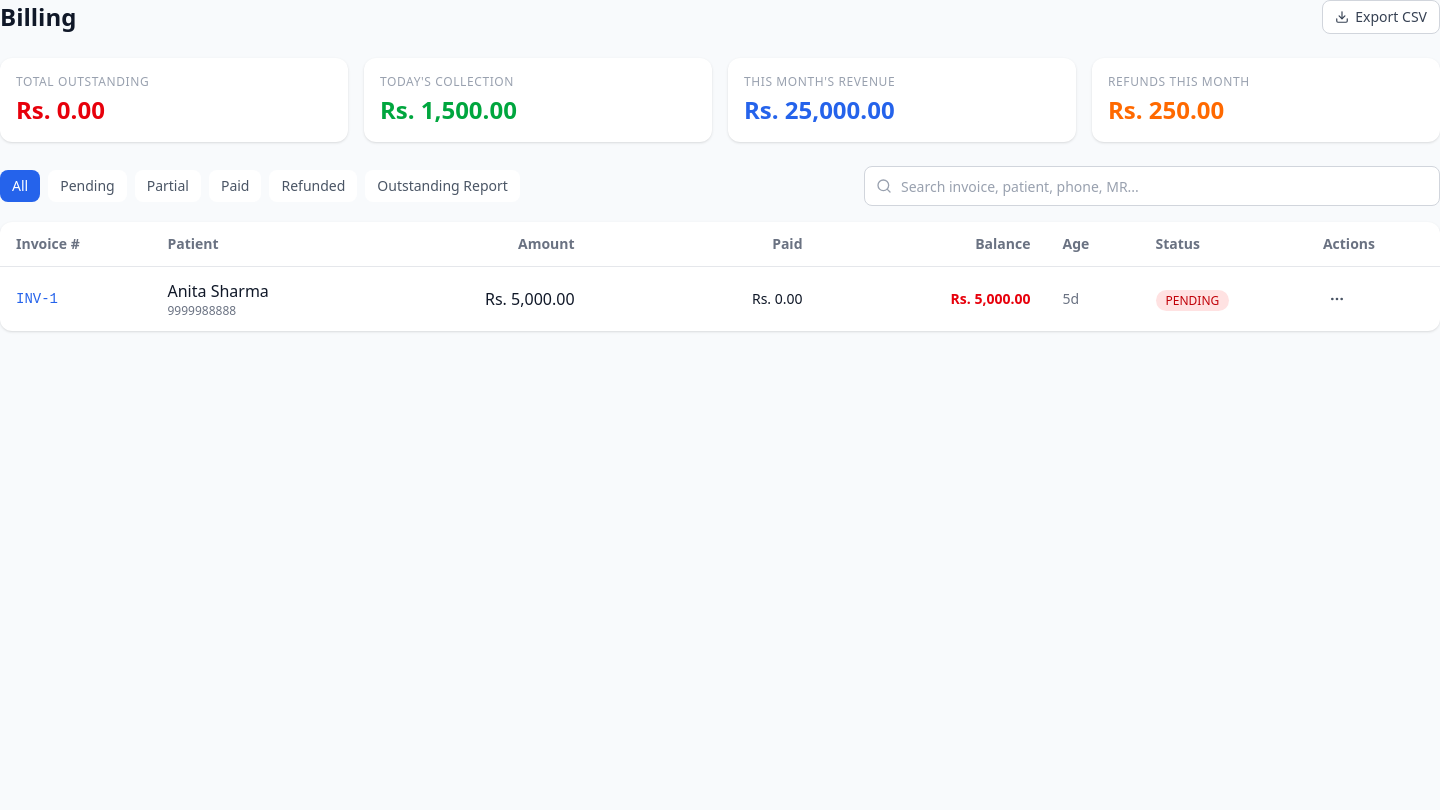
Scenario: BillingPage — global billing dashboard › Record Payment Cancel closes the modal without firing POST
Check: the link "INV-1" is shown, box [16,291,58,307]
Click the button named "Actions menu for invoice INV-1". click: (1337, 299)
box: [1323,285,1351,313]
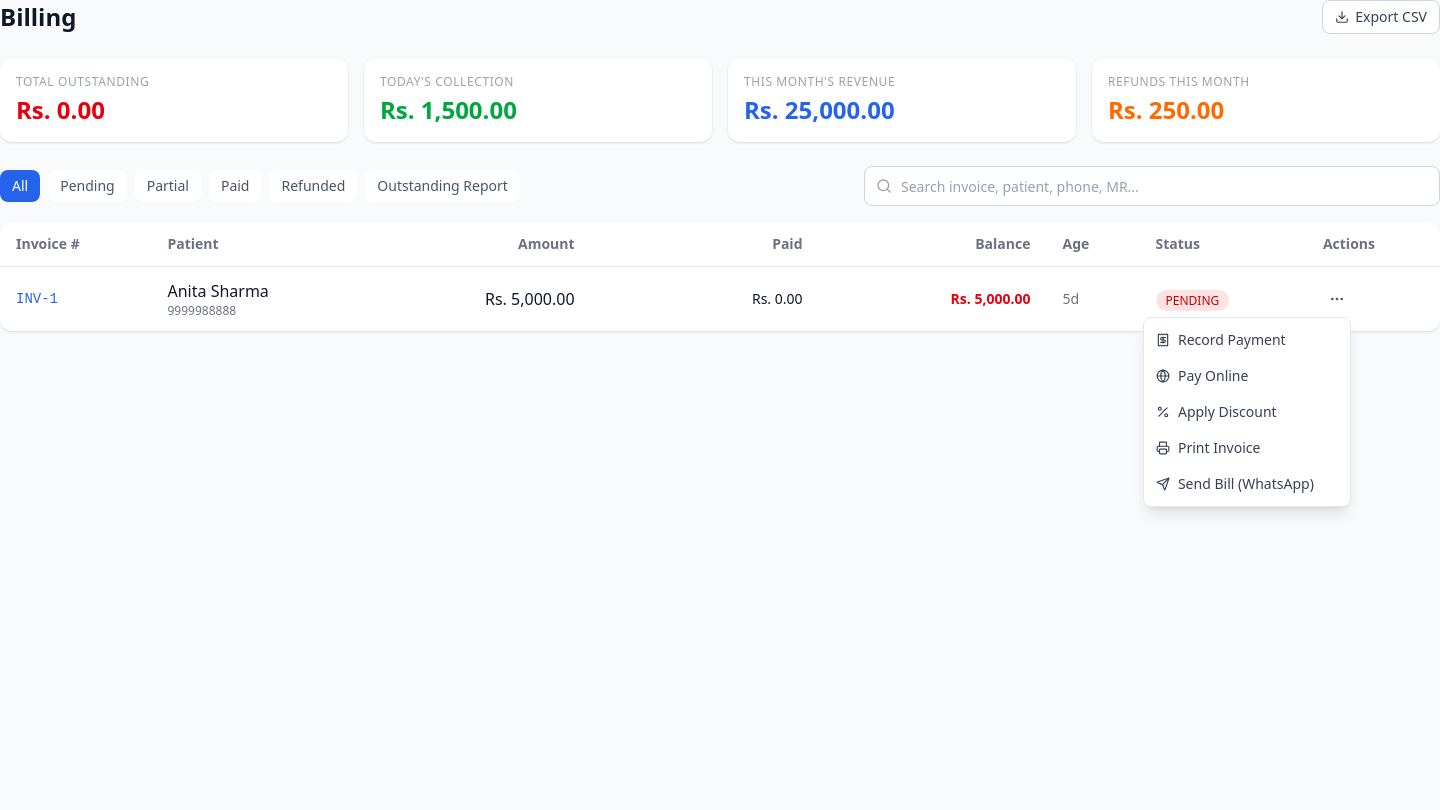
Click the button "Record Payment". click: (1247, 340)
box: [1144,322,1350,358]
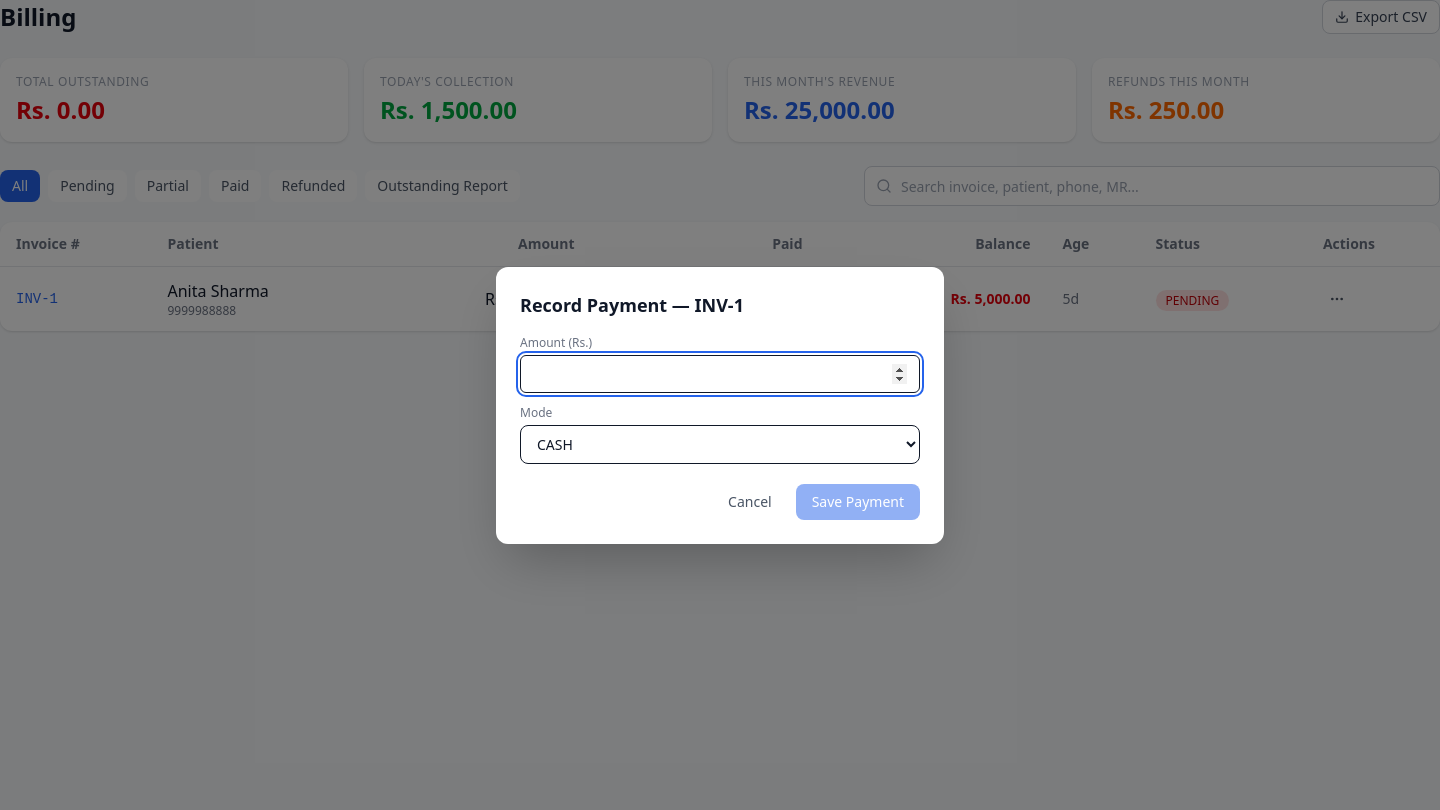
Click the button "Cancel". click: (750, 502)
box: [712,484,788,520]
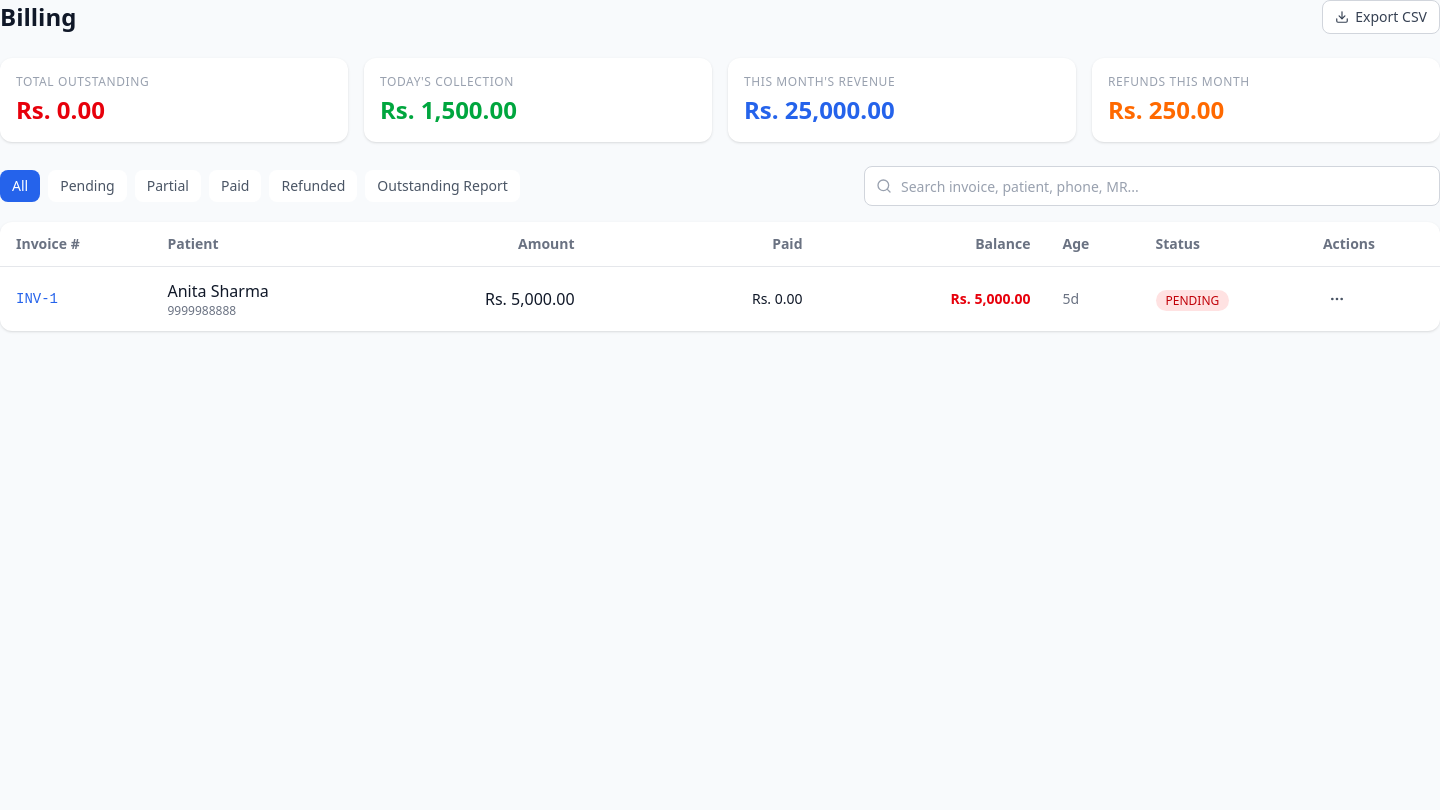
Check: the heading "Record Payment — INV-1" is gone
